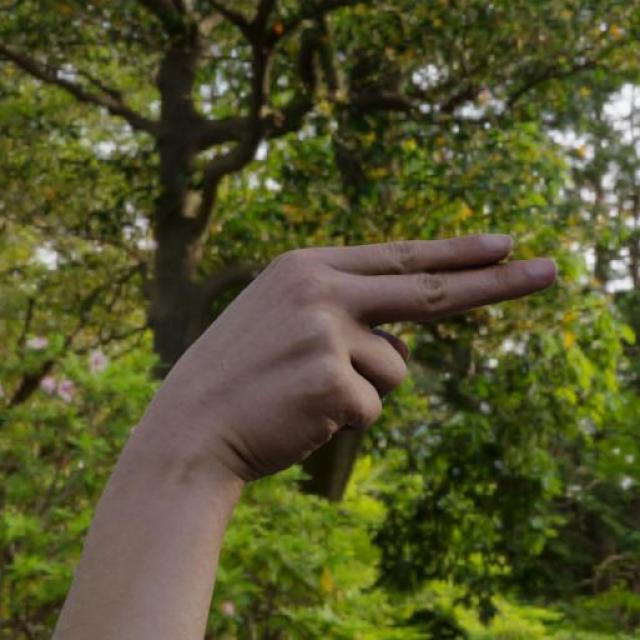H: (153, 227, 562, 478)
